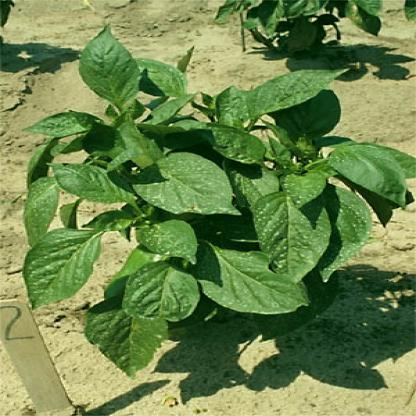Bell_pepper leaf spot: (197, 236, 319, 316), (17, 224, 108, 319), (79, 303, 169, 385), (254, 190, 330, 287), (241, 56, 354, 120), (137, 150, 240, 217), (123, 263, 198, 320), (49, 159, 133, 202), (18, 178, 61, 250), (137, 217, 200, 263), (279, 171, 331, 206)
